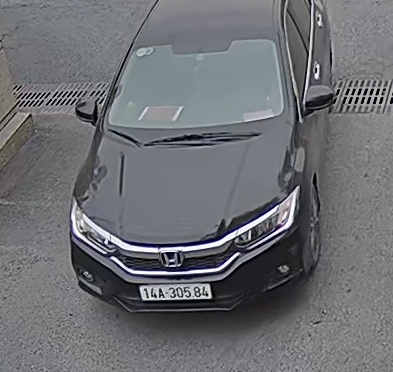vehicle plate: (134, 279, 213, 304)
